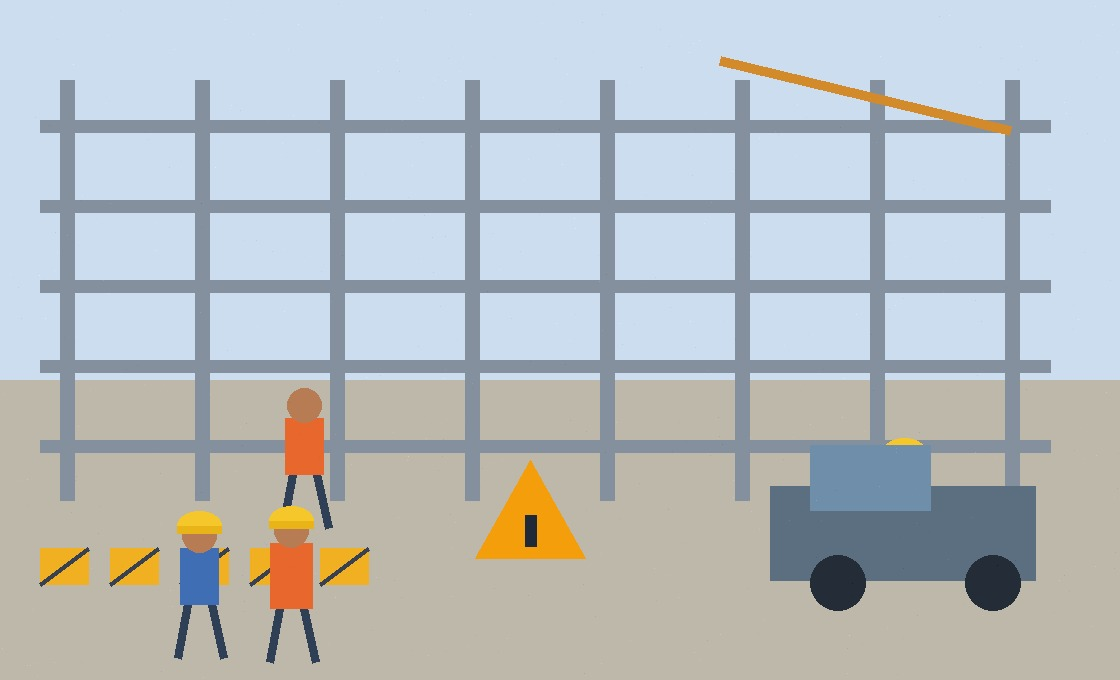no_helmet: (226, 350, 268, 384)
person: (211, 360, 273, 530)
vehicle: (770, 445, 1035, 595)
vest: (201, 395, 273, 483)
